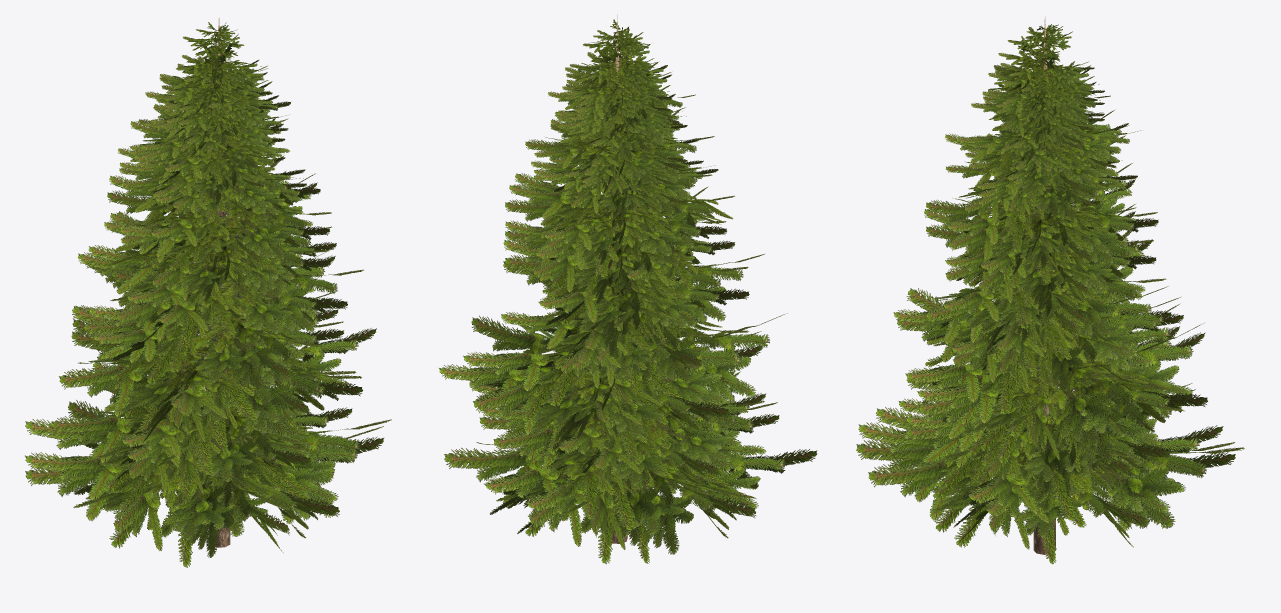
File: fir_tree_11.fbx.glb
3 views of the same model, side by side, from view 1: azimuth 30°, elevation 25°; view 2: azimuth 150°, elevation 25°; view 3: azimuth 270°, elevation 25° (orthographic).
Parts seen in each view (by area): view 1: fir_tree_bare.2; view 2: fir_tree_bare.2; view 3: fir_tree_bare.2.
Part boxes in pixels (x1,y1,x2,y2): fir_tree_bare.2: (25,18,391,567); fir_tree_bare.2: (439,14,817,564); fir_tree_bare.2: (856,16,1244,564).
Size of the model in its own units: 5.08 by 7.18 by 5.07.
Materials: 2 (2 with a texture image).
